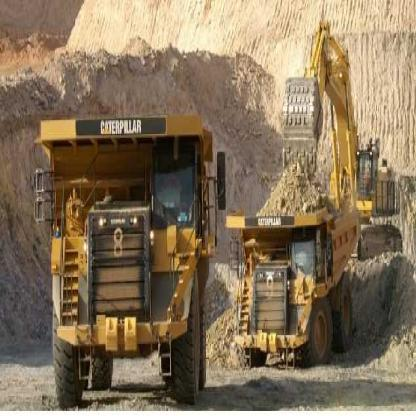dump_truck: (24, 95, 233, 407), (230, 160, 366, 370)
excavator: (276, 18, 415, 269)
